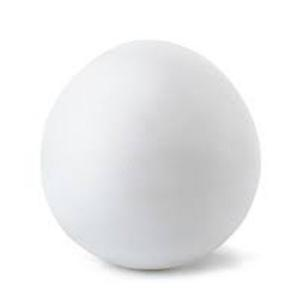Egg: (37, 39, 264, 274)
